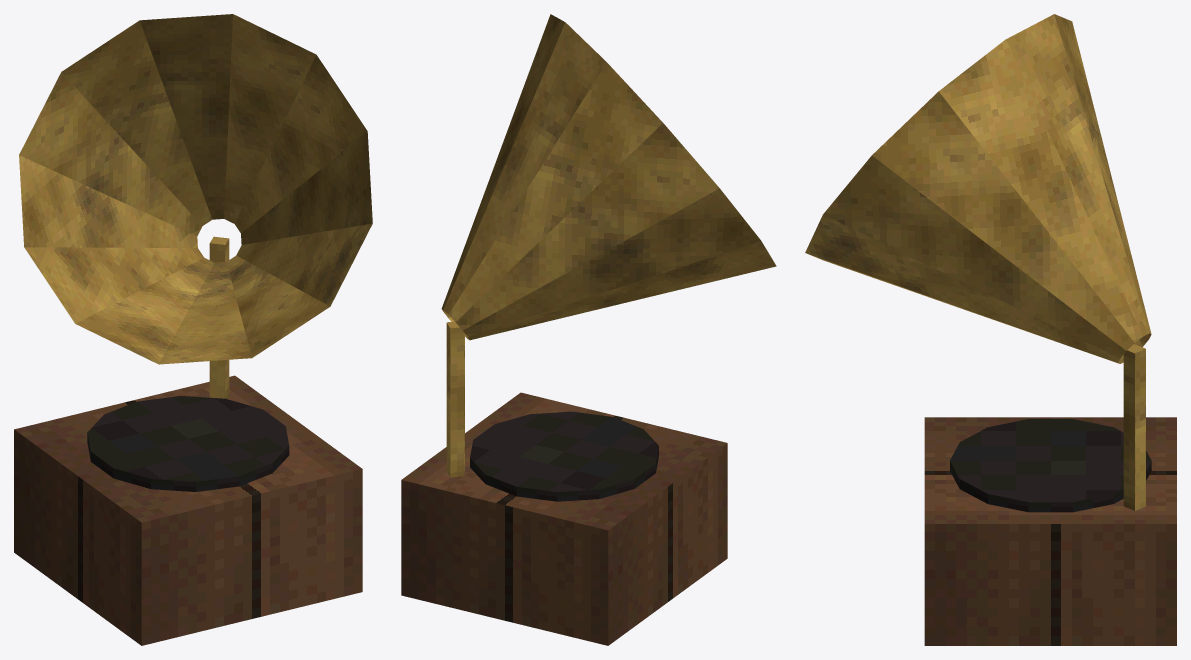
Rendered from gramofono.obj.
3 views of the same model, side by side, from view 1: azimuth 30°, elevation 25°; view 2: azimuth 150°, elevation 25°; view 3: azimuth 270°, elevation 25° (orthographic). The views are drawn at different scales.
Visible parts, largest first — view 1: gramofono; view 2: gramofono; view 3: gramofono.
Boxes of the visible parts, x1=… form: gramofono: x1=14, y1=14, x2=372, y2=645; gramofono: x1=401, y1=14, x2=776, y2=645; gramofono: x1=805, y1=14, x2=1176, y2=645.
Bounding box in the file's own units: 0.6063 × 1.11 × 0.6633.
Materials: 3 (3 with a texture image).
